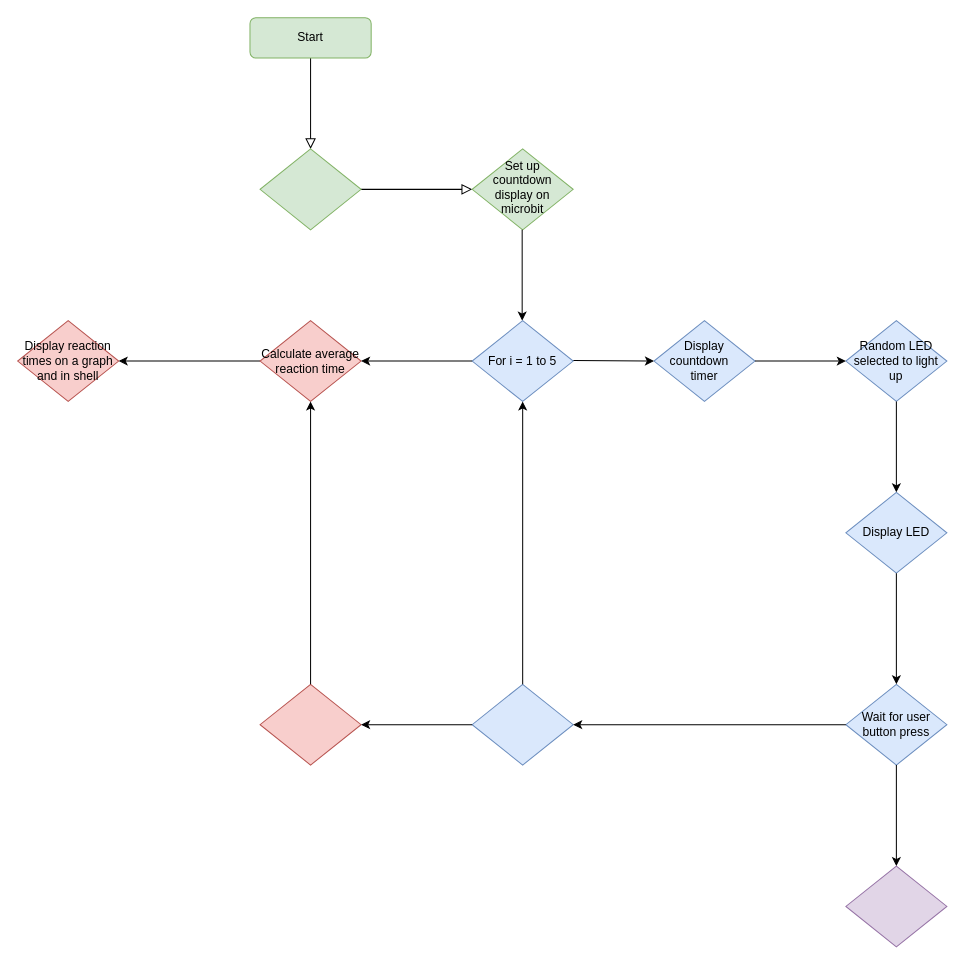
Some shapes in this 965 by 965 pixel diagram are drawn without their labels. Each missing label, with the box of its shape:
Import reaction times to code: (259, 683, 361, 765)
Initialize variables: (259, 148, 361, 230)
Record reaction time: (471, 683, 573, 765)
Show reaction time in separate file: (845, 865, 947, 947)
